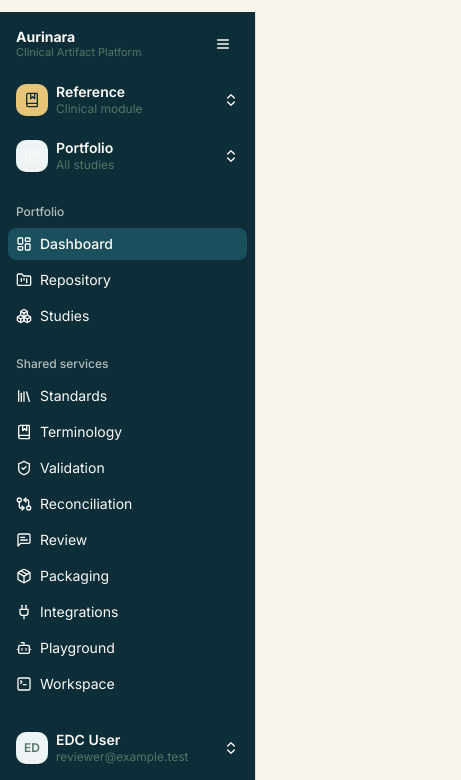
Test: AppSidebar navigation hierarchy › keeps the selected clinical module while Portfolio is the study scope
The image size is (461, 780).
Click the button with aria-label "Select module": click(128, 100) [8,76,247,124]
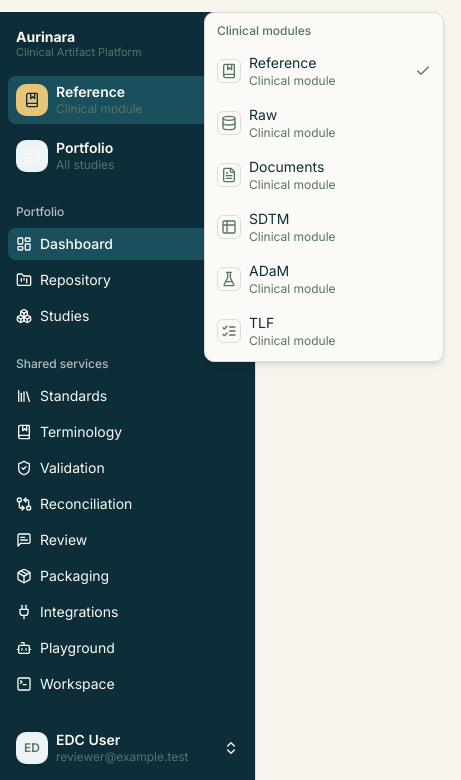
Click the menu item "SDTM Clinical module": click(276, 227) [217,210,336,244]
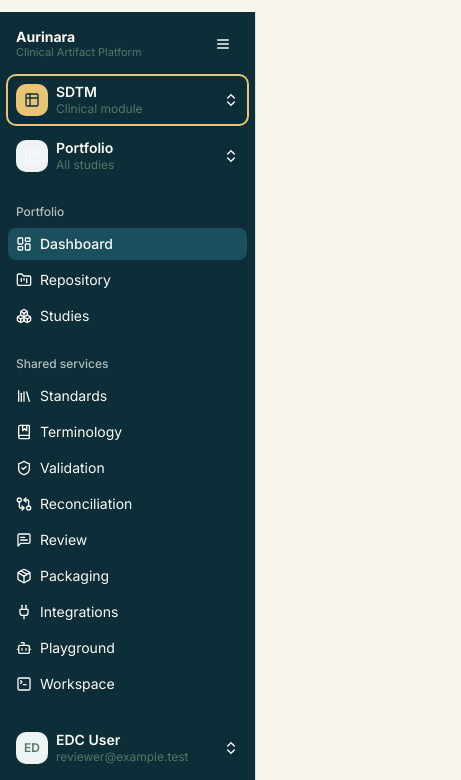
Expected: the button with aria-label "Select module" shows "SDTM", [8,76,247,124]
